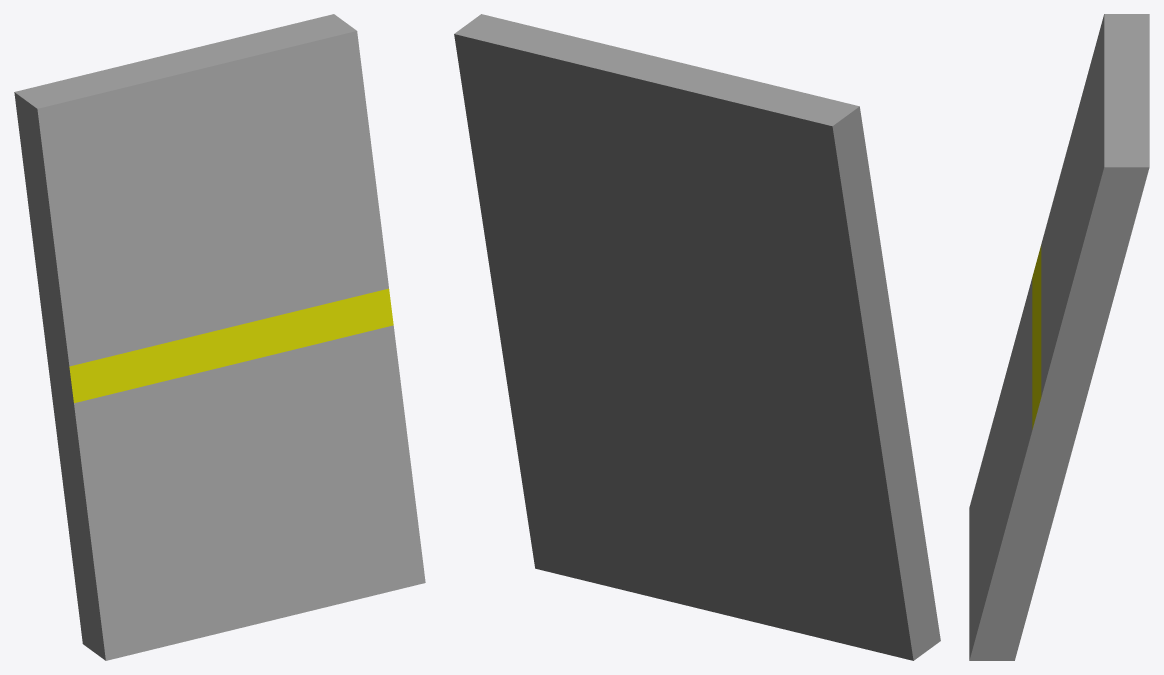
File: Wall_Straight_4.fbx
3 renders of one model, left to right at view 1: azimuth 30°, elevation 25°; view 2: azimuth 150°, elevation 25°; view 3: azimuth 270°, elevation 25°, orthographic. The views are drawn at different scales.
Visible parts, largest first — view 1: Wall_Straight; view 2: Wall_Straight; view 3: Wall_Straight.
Part boxes in pixels (box(x1,y1,x2,y2)): Wall_Straight: box(14, 14, 425, 660); Wall_Straight: box(454, 14, 940, 660); Wall_Straight: box(969, 14, 1149, 660).
Bounding box in the file's own units: 4 × 6 × 1.98.
